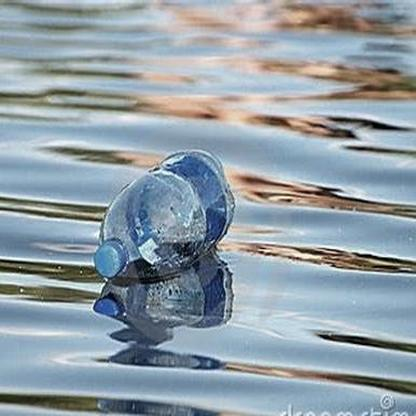plastic bottle: (95, 148, 236, 277)
